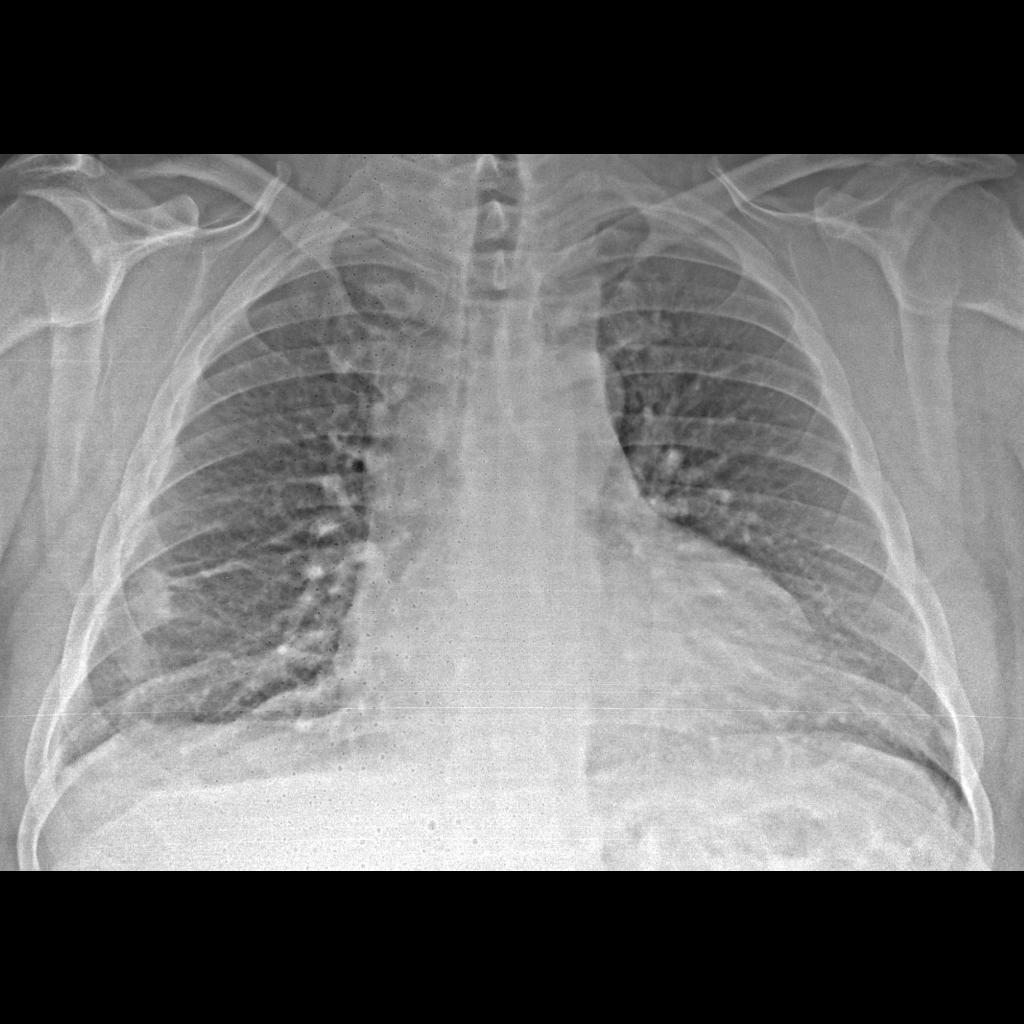Nodule: (117, 557, 183, 632)
